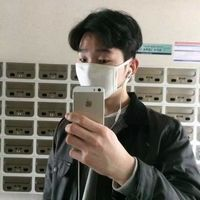face_mask: (75, 34, 126, 100)
